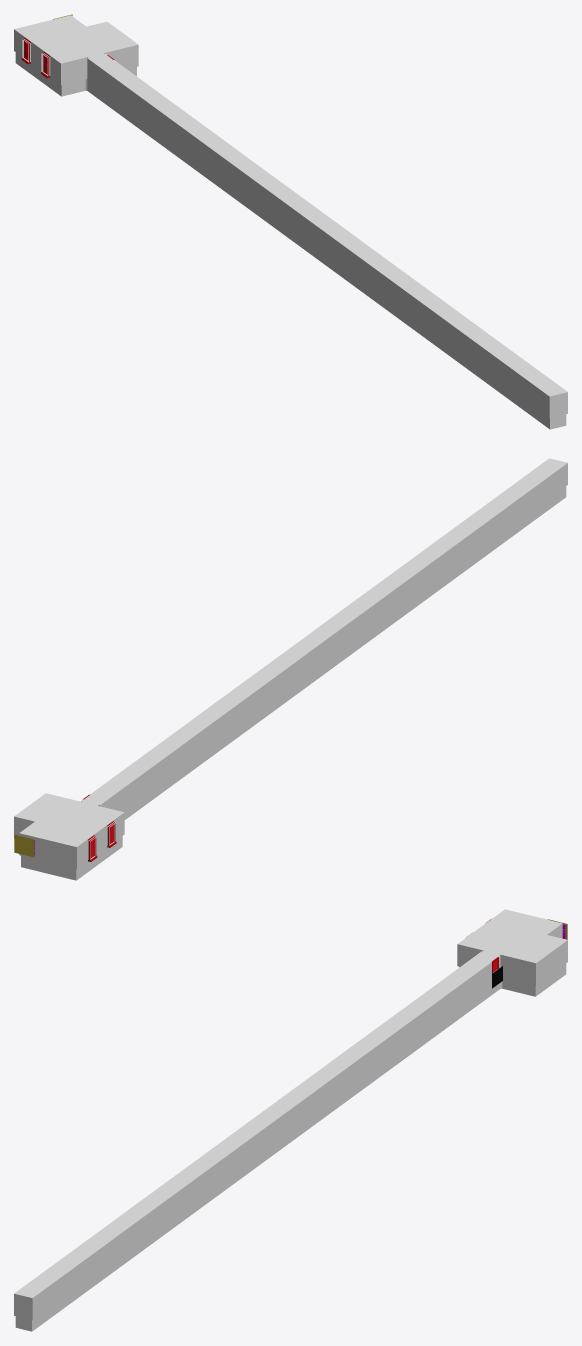
The model's file is contractsign.fbx.
3 views of the same model, one above another, from view 1: azimuth 30°, elevation 25°; view 2: azimuth 150°, elevation 25°; view 3: azimuth 330°, elevation 25° (orthographic).
Parts seen in each view (by area): view 1: floor; view 2: floor; view 3: floor.
Part boxes in pixels (x1,y1,x2,y2): floor: [14, 15, 567, 429]; floor: [14, 458, 567, 880]; floor: [14, 909, 567, 1331].
Size of the model in its own units: 1764 by 720 by 19342.
